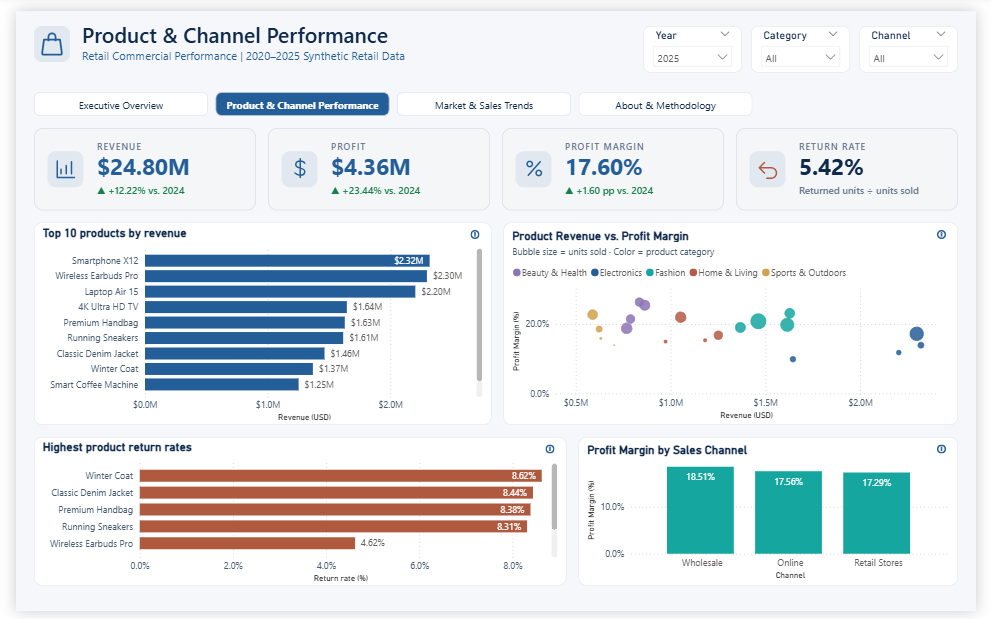

The page's visual inventory and layout, read from the dashboard file:
{"tool":"powerbi","page":{"name":"Product & Channel Performance","canvas":[1280,800],"ordinal":1},"visuals":[{"type":"textbox","box":[88,12,710,80],"z":0},{"type":"image","box":[24,20,48,48],"z":1000},{"type":"pageNavigator","box":[24,108,960,32],"z":2000},{"type":"slicer","fields":{"Values":["a_DimDate_portfolio.Year"]},"box":[836,20,132,62],"z":3000},{"type":"slicer","fields":{"Values":["a_DimProduct_portfolio.Category"]},"box":[980,20,132,62],"z":4000},{"type":"slicer","fields":{"Values":["a_FactSalesDaily_portfolio.Channel"]},"box":[1124,20,132,62],"z":5000},{"type":"image","box":[24,156,296,110],"z":6000},{"type":"image","box":[336,156,296,110],"z":7000},{"type":"image","box":[648,156,296,110],"z":8000},{"type":"image","box":[960,156,296,110],"z":9000},{"type":"clusteredBarChart","title":"Top 10 products by revenue","fields":{"Category":["a_DimProduct_portfolio.Product"],"Y":["_Measures.Total Revenue"]},"box":[24,282,610,270],"z":10000},{"type":"scatterChart","title":"Product Revenue vs. Profit Margin","fields":{"Category":["a_DimProduct_portfolio.Product"],"Series":["a_DimProduct_portfolio.Category"],"Size":["_Measures.Units Sold"],"X":["_Measures.Total Revenue"],"Y":["_Measures.Profit Margin %"]},"box":[650,282,606,270],"z":11000},{"type":"clusteredBarChart","title":"Highest product return rates","fields":{"Category":["a_DimProduct_portfolio.Product"],"Y":["_Measures.Return Rate %"]},"box":[24,568,710,198],"z":12000},{"type":"clusteredColumnChart","title":"Profit Margin by Sales Channel","fields":{"Category":["a_FactSalesDaily_portfolio.Channel"],"Y":["_Measures.Profit Margin %"]},"box":[750,568,506,198],"z":13000},{"type":"actionButton","box":[602,288,20,20],"z":14000},{"type":"actionButton","box":[1224,288,20,20],"z":15000},{"type":"actionButton","box":[702,574,20,20],"z":16000},{"type":"actionButton","box":[1224,574,20,20],"z":17000}]}

Visuals, with their boxes in screenshot pixels (x1, y1, x2, y2), scaled from the page's 1280x800 canvas onto the 991x619 screenshot:
textbox: select_region(68, 9, 618, 71)
image: select_region(19, 15, 56, 53)
pageNavigator: select_region(19, 84, 762, 108)
slicer - a_DimDate_portfolio.Year: select_region(647, 15, 749, 63)
slicer - a_DimProduct_portfolio.Category: select_region(759, 15, 861, 63)
slicer - a_FactSalesDaily_portfolio.Channel: select_region(870, 15, 972, 63)
image: select_region(19, 121, 248, 206)
image: select_region(260, 121, 489, 206)
image: select_region(502, 121, 731, 206)
image: select_region(743, 121, 972, 206)
"Top 10 products by revenue" clusteredBarChart: select_region(19, 218, 491, 427)
"Product Revenue vs. Profit Margin" scatterChart: select_region(503, 218, 972, 427)
"Highest product return rates" clusteredBarChart: select_region(19, 439, 568, 593)
"Profit Margin by Sales Channel" clusteredColumnChart: select_region(581, 439, 972, 593)
actionButton: select_region(466, 223, 482, 238)
actionButton: select_region(948, 223, 963, 238)
actionButton: select_region(544, 444, 559, 460)
actionButton: select_region(948, 444, 963, 460)
